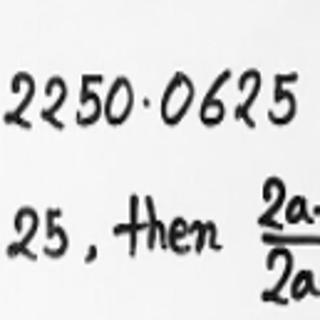.: (137, 94, 154, 116)
0: (161, 72, 195, 125), (101, 75, 135, 127)
2: (5, 69, 37, 131), (260, 247, 293, 305), (6, 204, 40, 260), (40, 73, 69, 127), (259, 175, 287, 230), (238, 68, 260, 128)
5: (267, 68, 299, 128), (76, 72, 104, 127), (43, 206, 69, 258)
